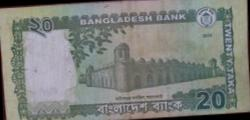20 taka: (4, 9, 247, 115)
